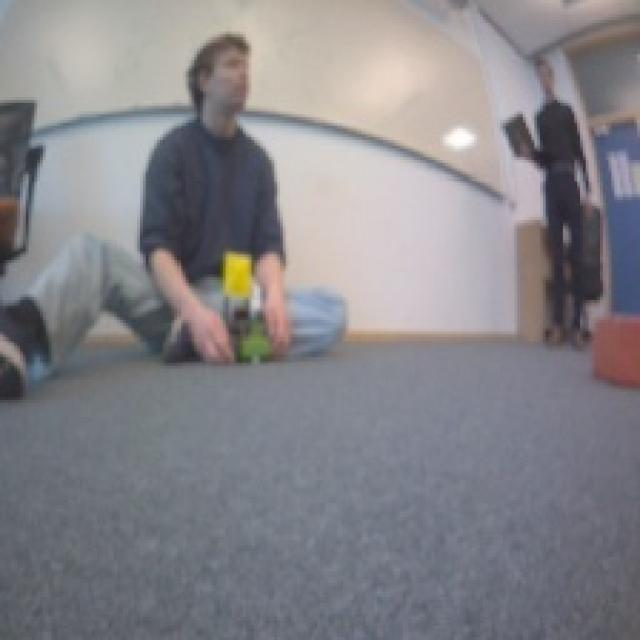robot: (225, 308, 274, 365)
target: (593, 317, 640, 388)
